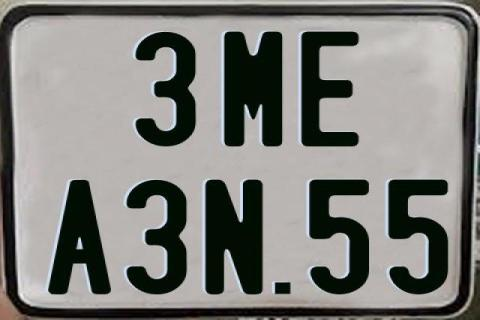0: (126, 178, 191, 296), (308, 178, 373, 296), (386, 177, 450, 296), (135, 30, 196, 148)
A: (46, 178, 110, 296)
E: (300, 29, 362, 145)
M: (224, 31, 282, 148)
N: (202, 180, 264, 298)
